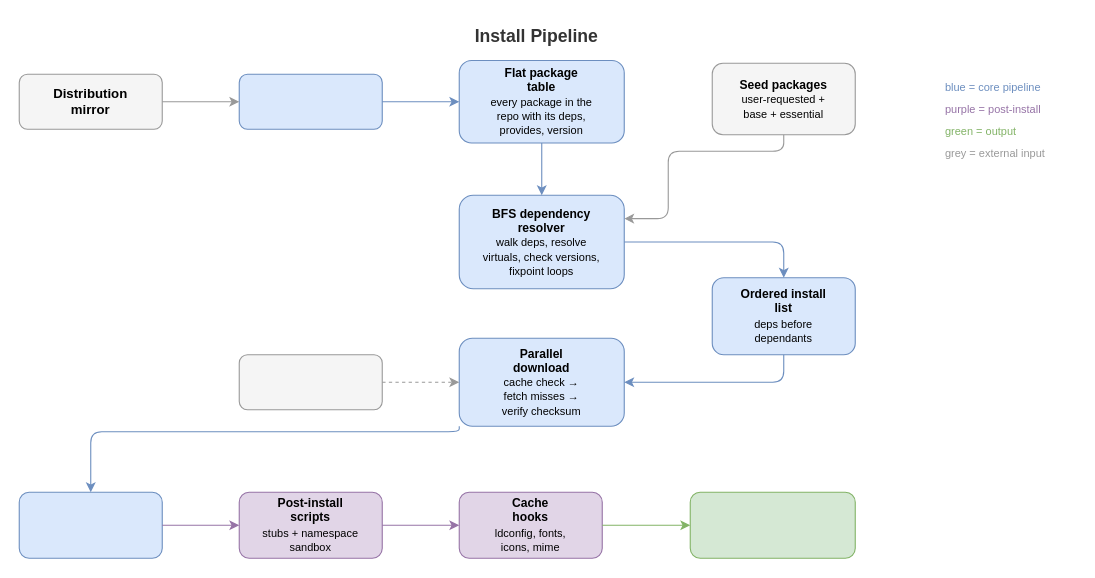
Some shapes in this 1095 by 578 pixel diagram are drawn without their labels. The centre of each missing label's shape, as x and y in pixels:
Extract unpack archives in resolver order: point (90, 524)
Fetch & parse index: point (310, 101)
Functional rootfs: point (772, 524)
Local cache ~/.cache/flatroot/: point (310, 382)
